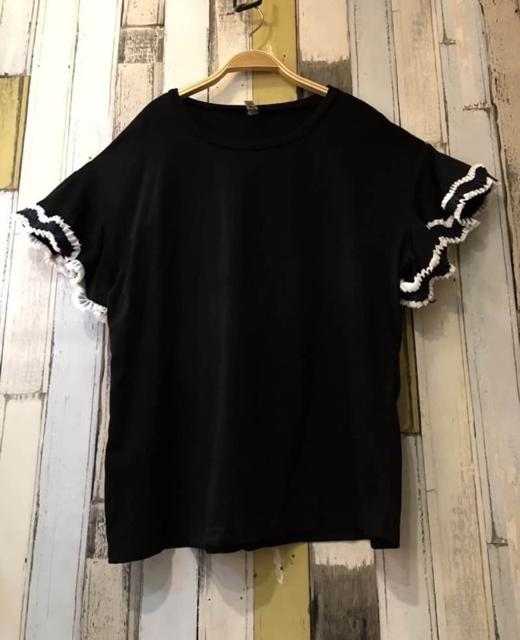Tops: (15, 84, 499, 556)
